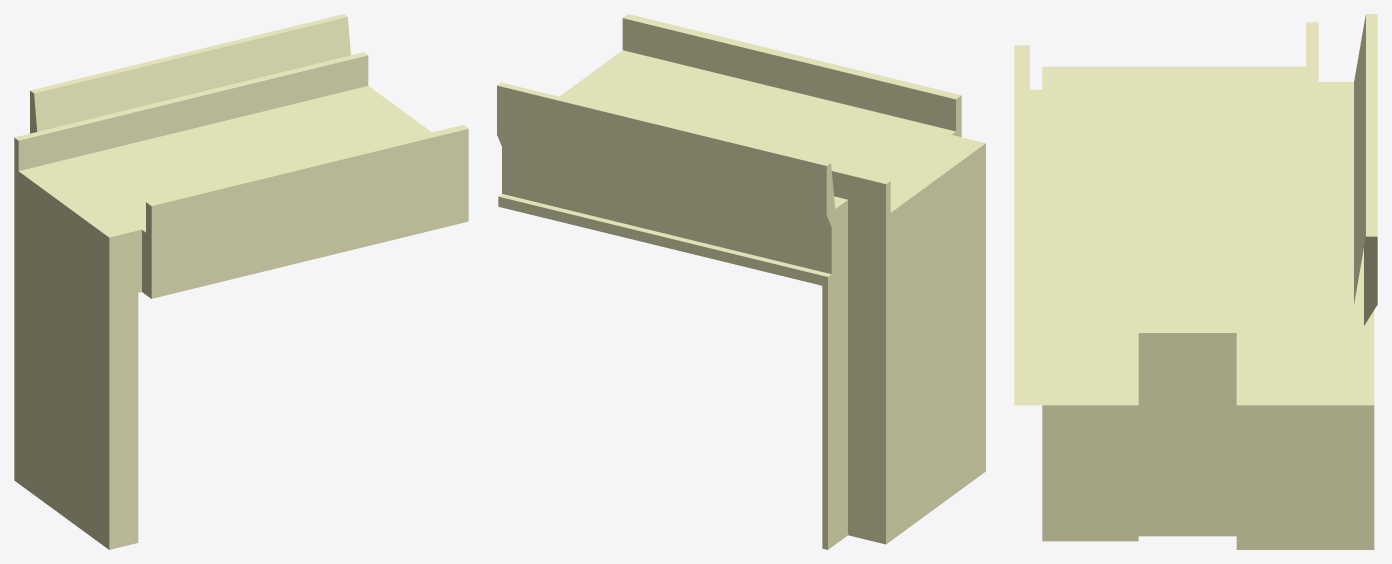
Rendered from original-11.obj.
3 renders of one model, left to right at view 1: azimuth 30°, elevation 25°; view 2: azimuth 150°, elevation 25°; view 3: azimuth 270°, elevation 25°, orthographic. The views are drawn at different scales.
Parts seen in each view (by area): view 1: BF2_TL1/BF2_TL/mesh89/mesh89-geometry#mesh89-geometry; view 2: BF2_TL1/BF2_TL/mesh89/mesh89-geometry#mesh89-geometry; view 3: BF2_TL1/BF2_TL/mesh89/mesh89-geometry#mesh89-geometry.
Boxes of the visible parts, bbox=[...] form: BF2_TL1/BF2_TL/mesh89/mesh89-geometry#mesh89-geometry: bbox=[14, 14, 468, 549]; BF2_TL1/BF2_TL/mesh89/mesh89-geometry#mesh89-geometry: bbox=[497, 14, 985, 549]; BF2_TL1/BF2_TL/mesh89/mesh89-geometry#mesh89-geometry: bbox=[1014, 14, 1377, 549].
Size of the model in its own units: 0.0978 by 0.0978 by 0.0605.
